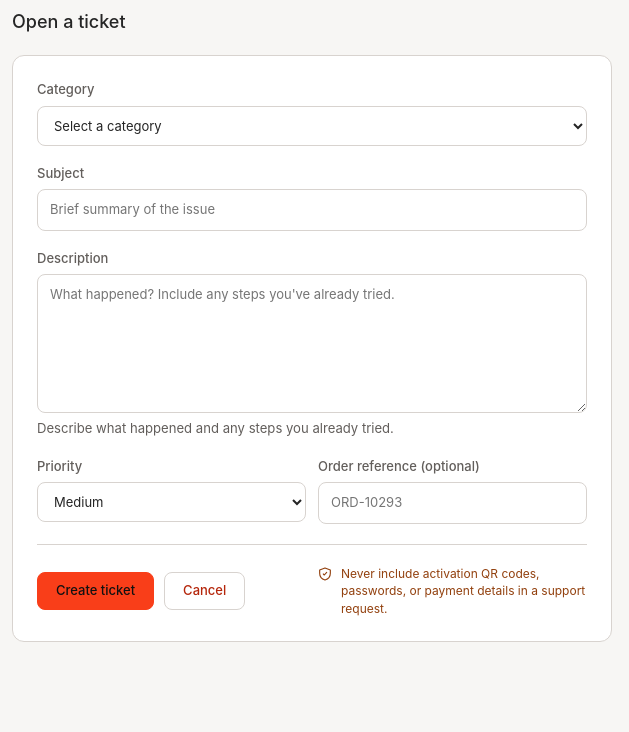
it: TicketCreate › surfaces server validation field errors
Select "Other" in the dropdown labelled "Category" at (312, 126), box [37,106,587,146]
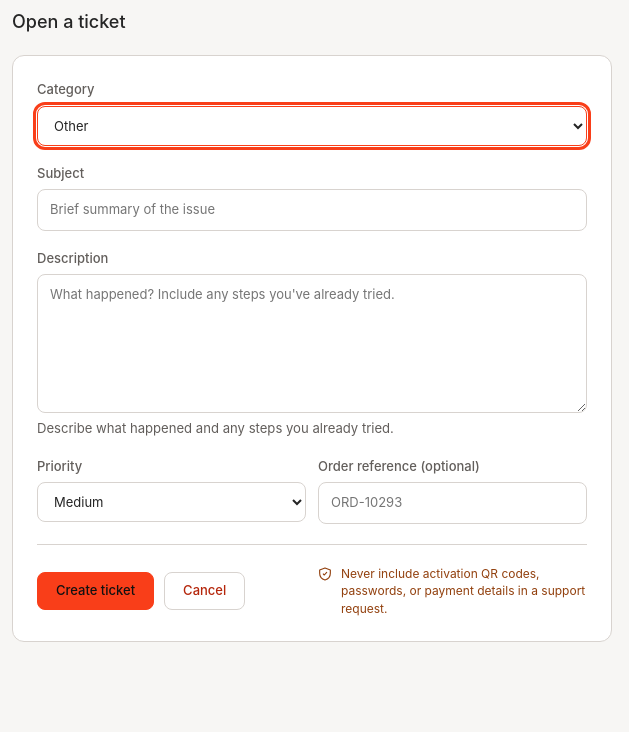
Type "Something specific" into the field labelled "Subject" at (312, 210), box [37,189,587,231]
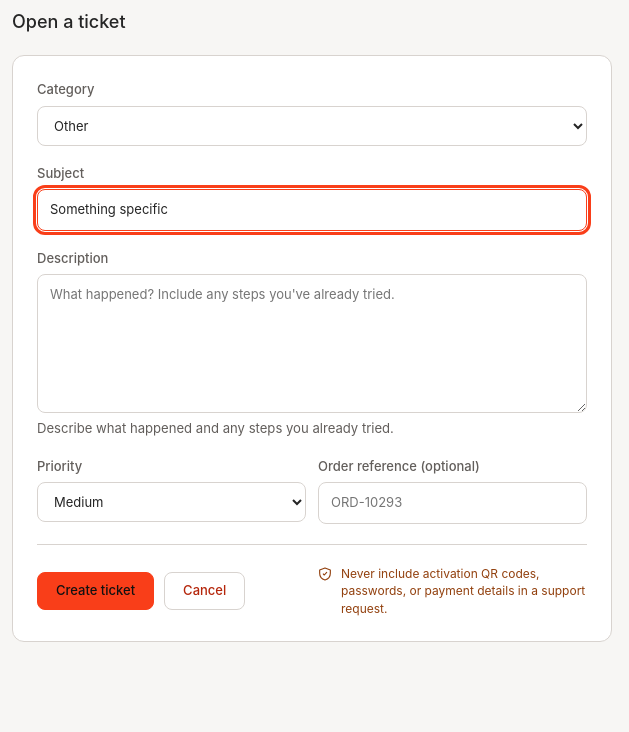
Type "Details" into the text box labelled "Description" at (312, 344), box [37,274,587,413]
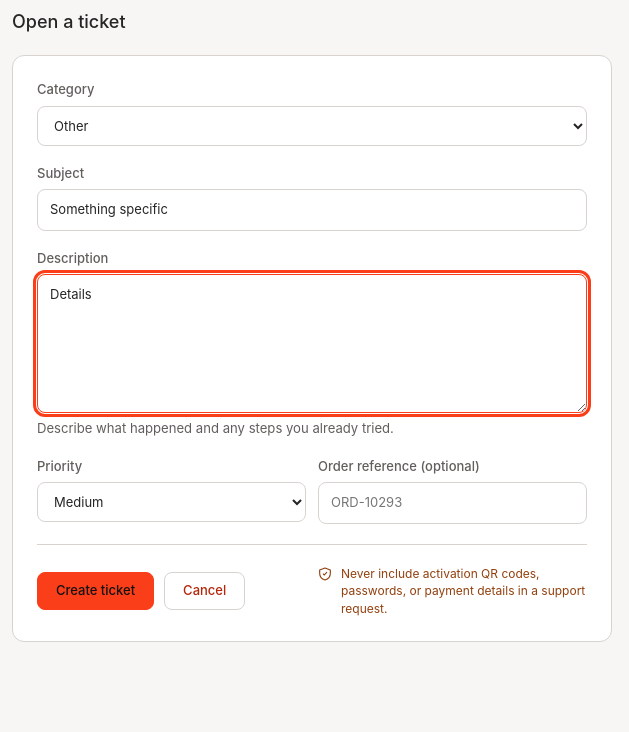
Click the button "Create ticket" at (96, 591), box [37,572,154,610]
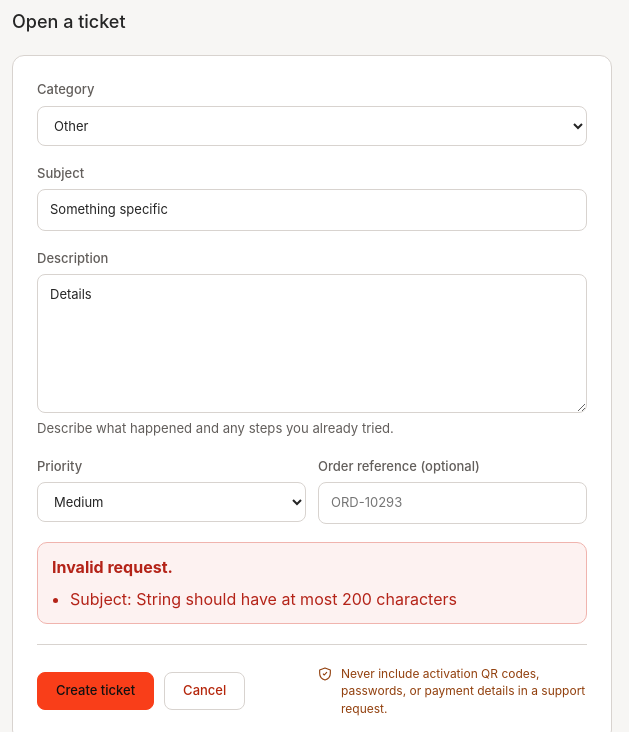
Result: the text "Invalid request." is shown at [52,557,173,577]
Result: the list item "Subject: String should have at most 200 characters" is shown at [70,589,457,609]
